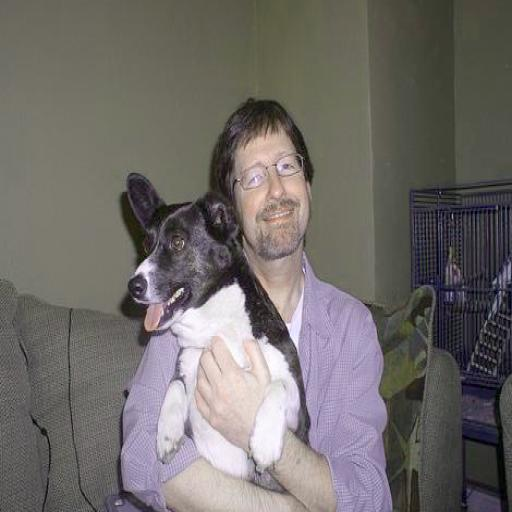dog_face: (113, 174, 230, 339)
